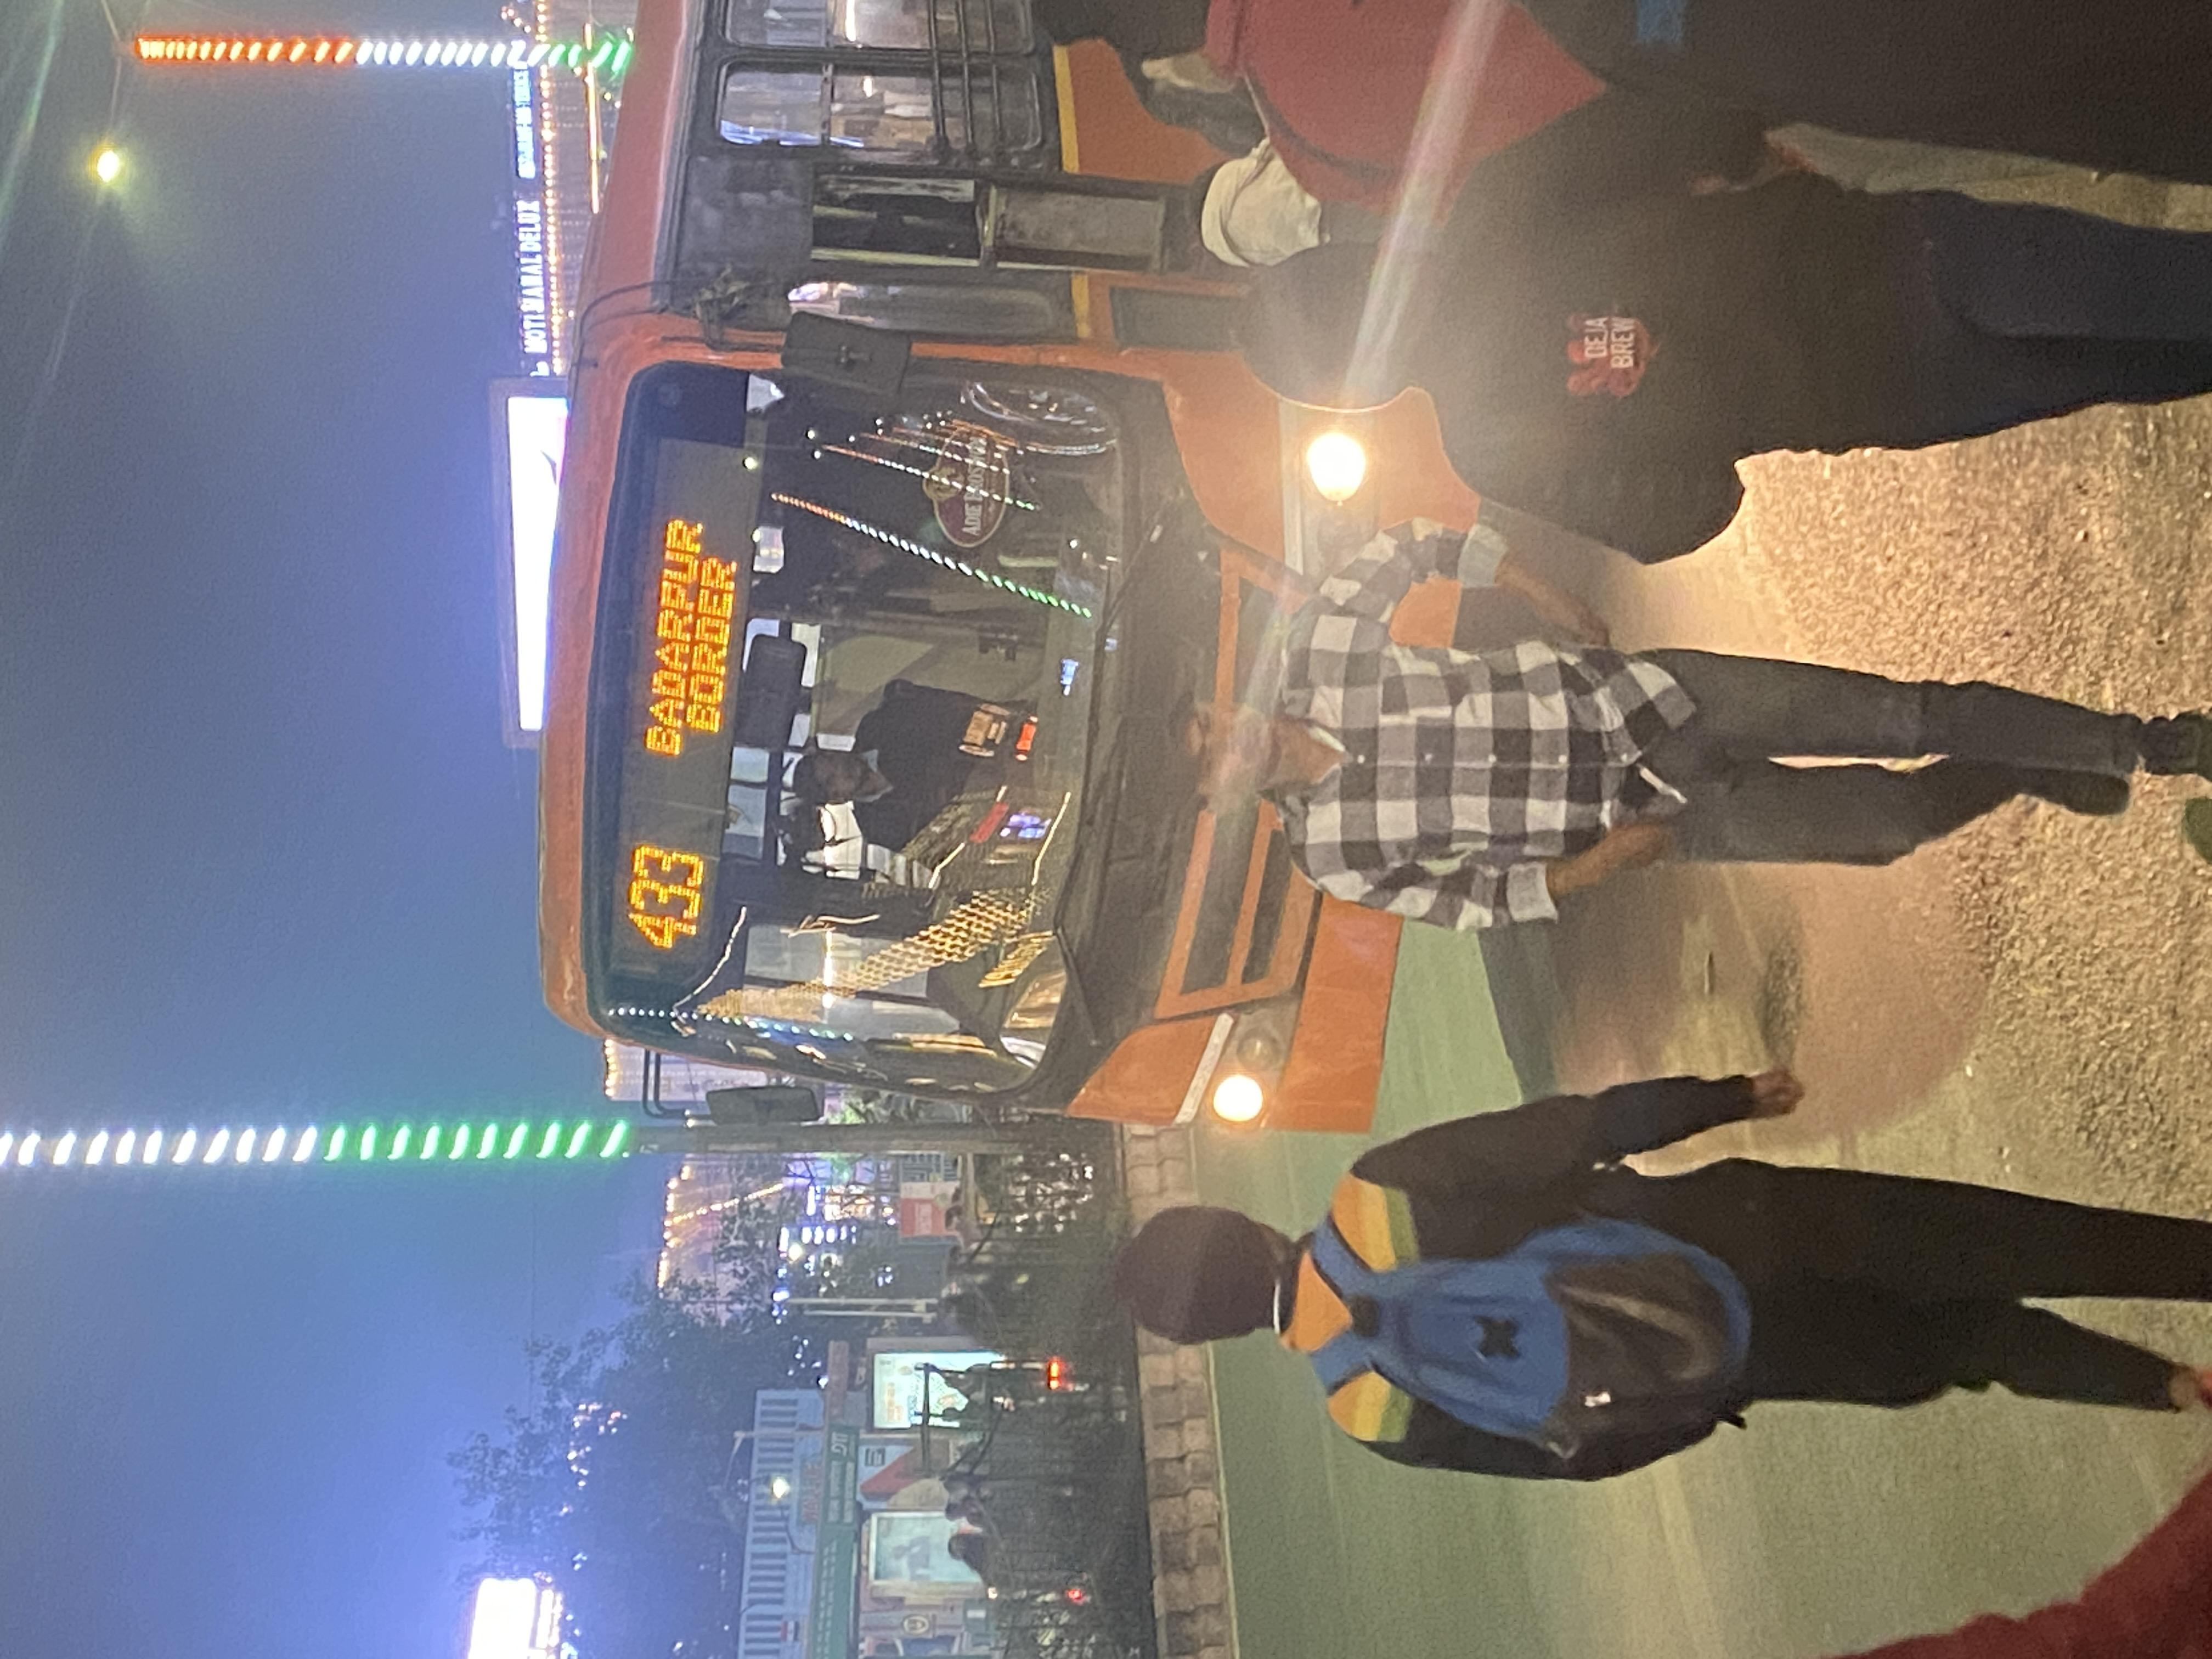Bus: (477, 247, 1426, 1175)
Display Board: (549, 307, 796, 1065)
